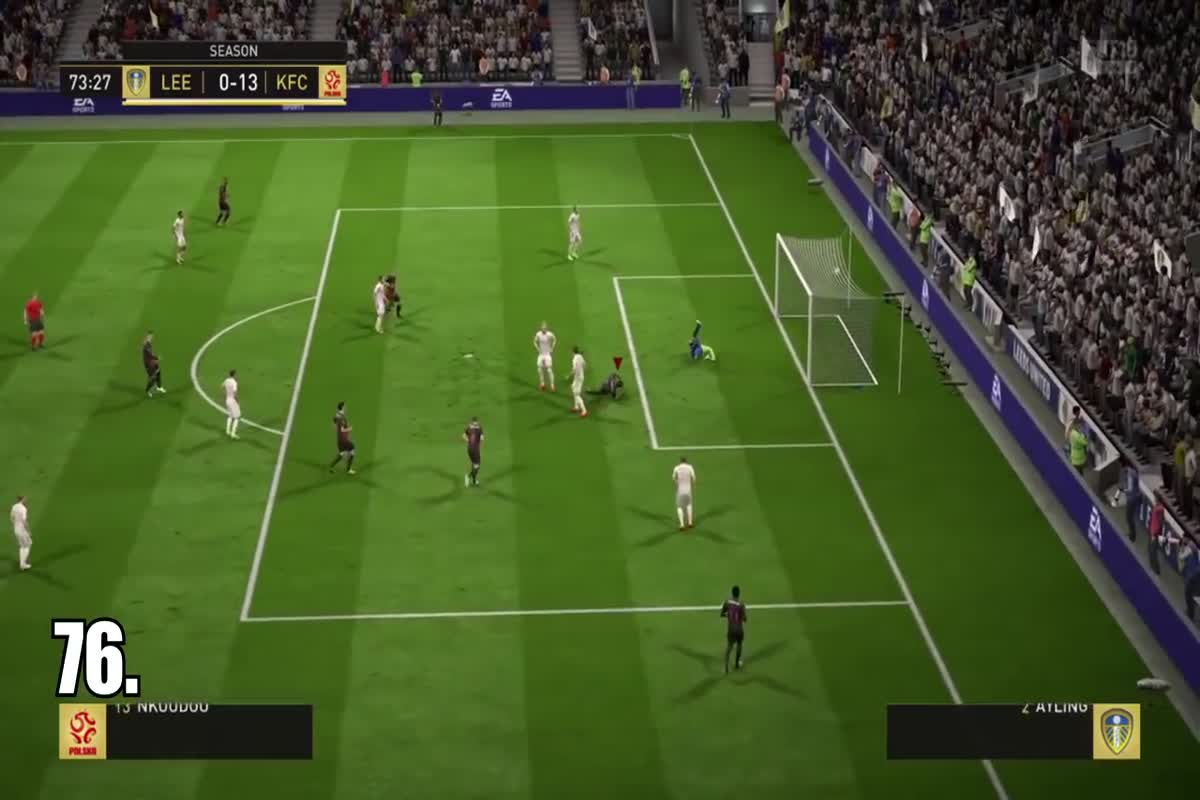ball: (825, 262, 847, 280)
